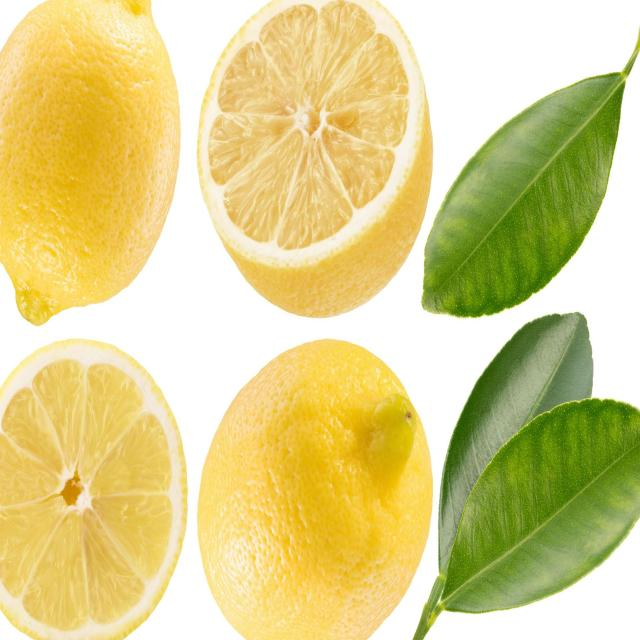lemon: (191, 0, 436, 350), (0, 0, 212, 360), (0, 329, 228, 640)
